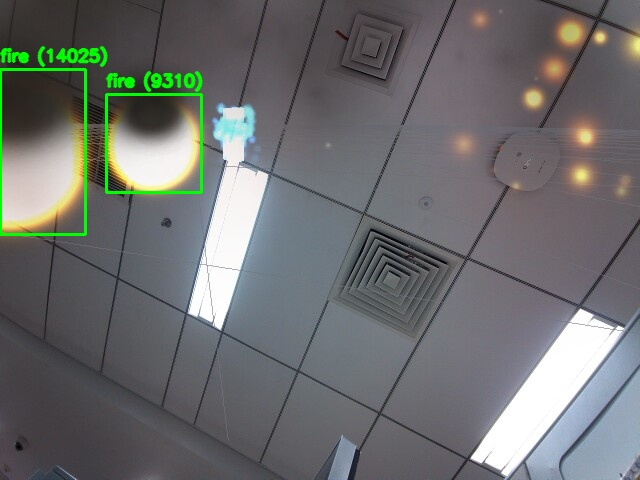fire: (0, 69, 85, 234), (106, 94, 201, 192)
